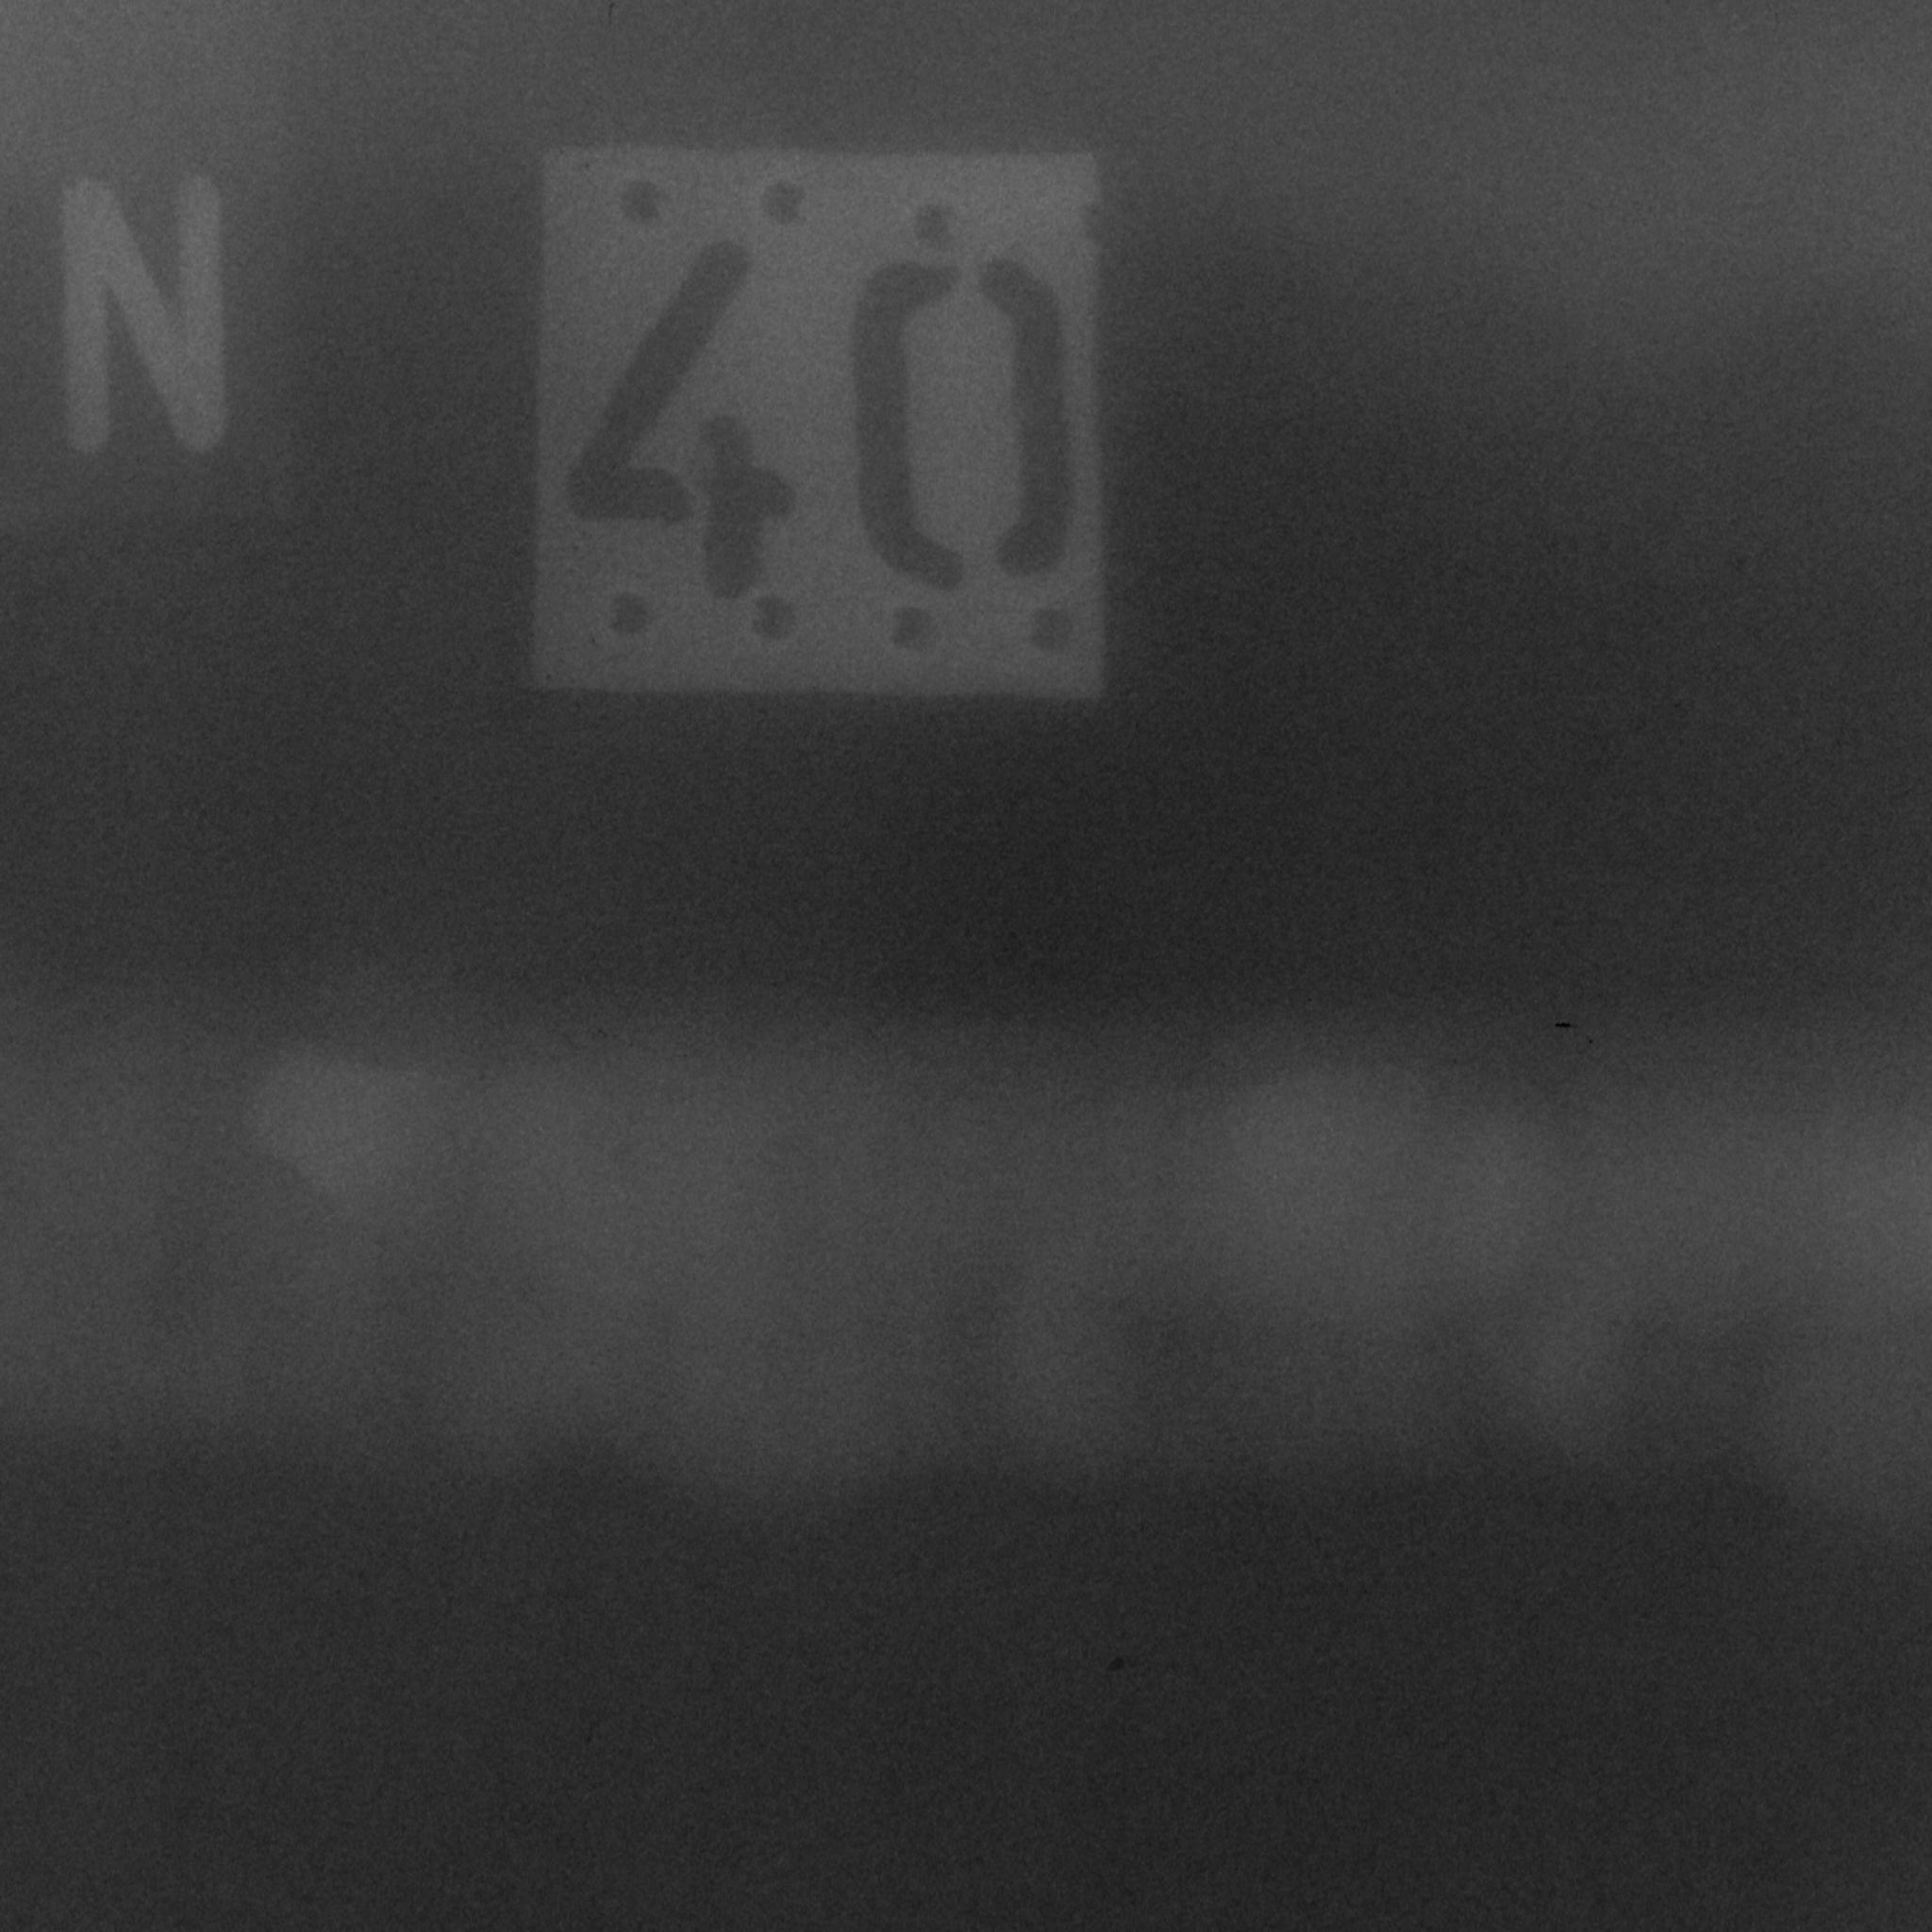FF: (1320, 1293, 1838, 1582)
PE: (232, 1012, 488, 1226)
